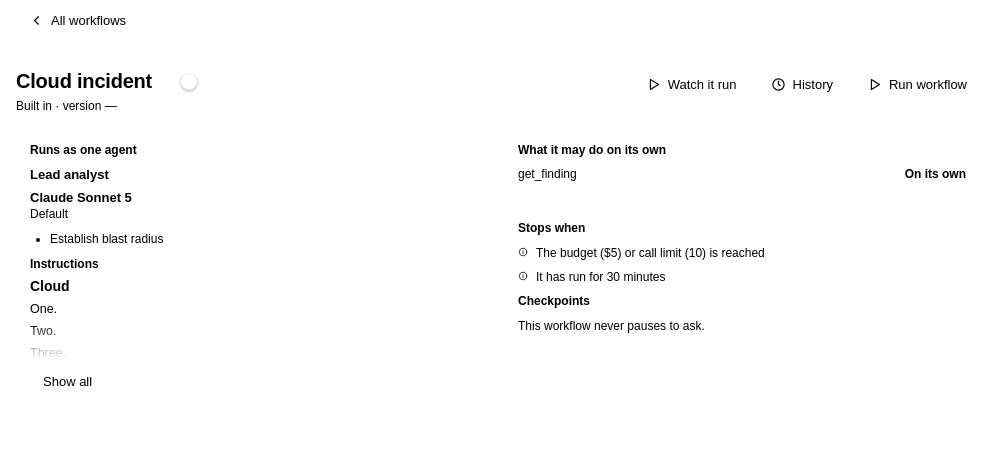
Test: workflow reader pane › shows a single-agent kind as one agent with its instructions and no helper panels
Expected: the text "Lead analyst" is shown, [30,167,109,182]
Expected: the text "Claude Sonnet 5" is shown, [30,190,132,205]
Click the button "Show all" at (68, 381), box [30,366,105,397]
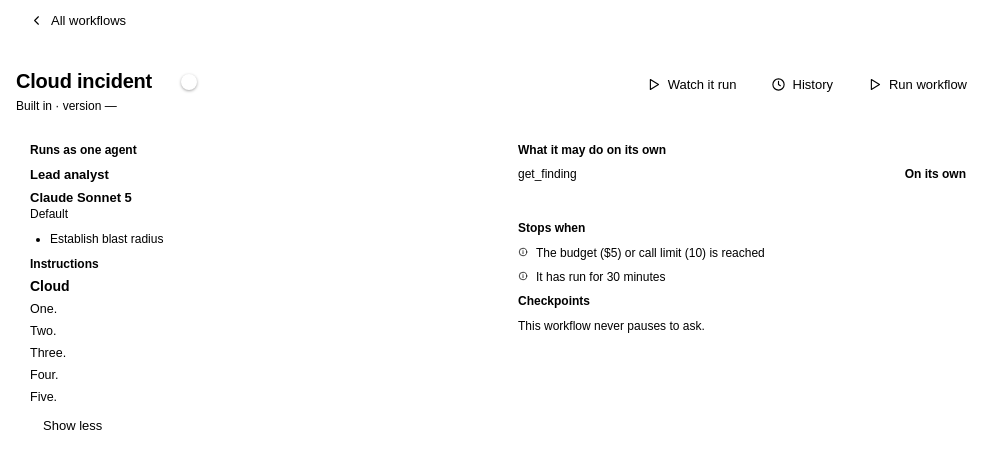
Expected: the text "get_finding" is shown, [518,167,577,181]
Expected: the button "Show less" is shown, [30,410,115,441]
